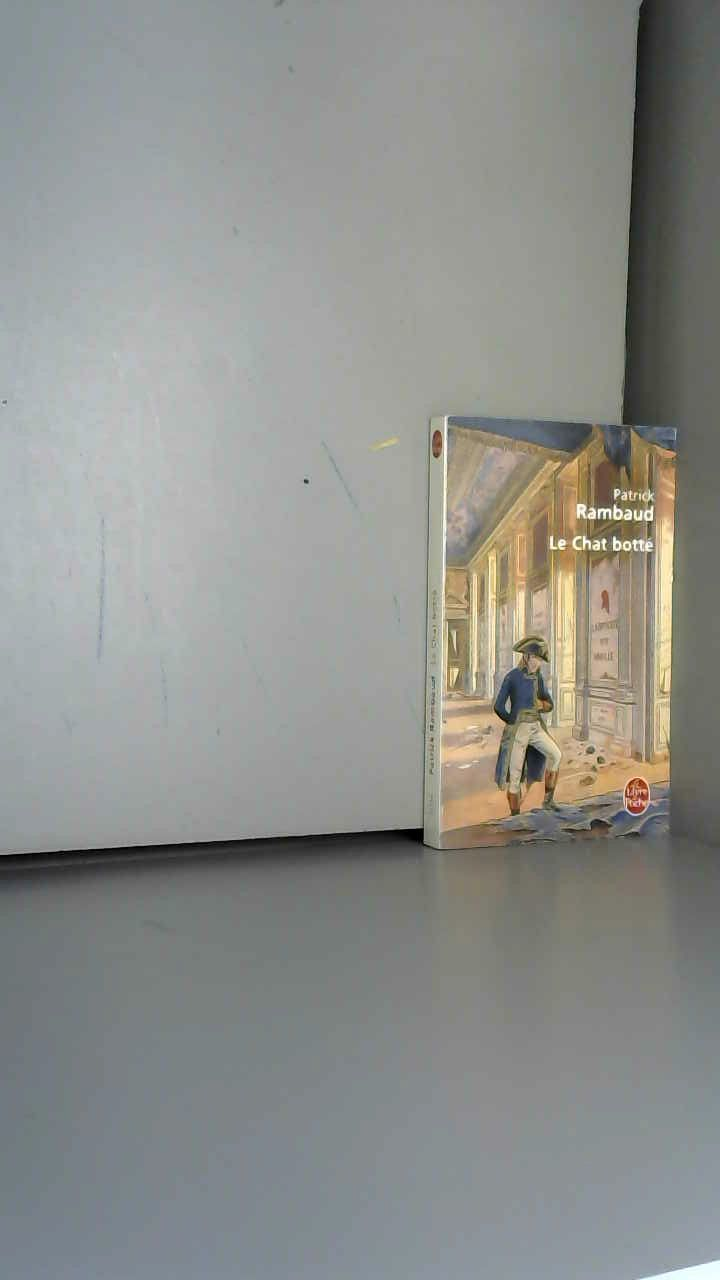book: (410, 390, 718, 910)
